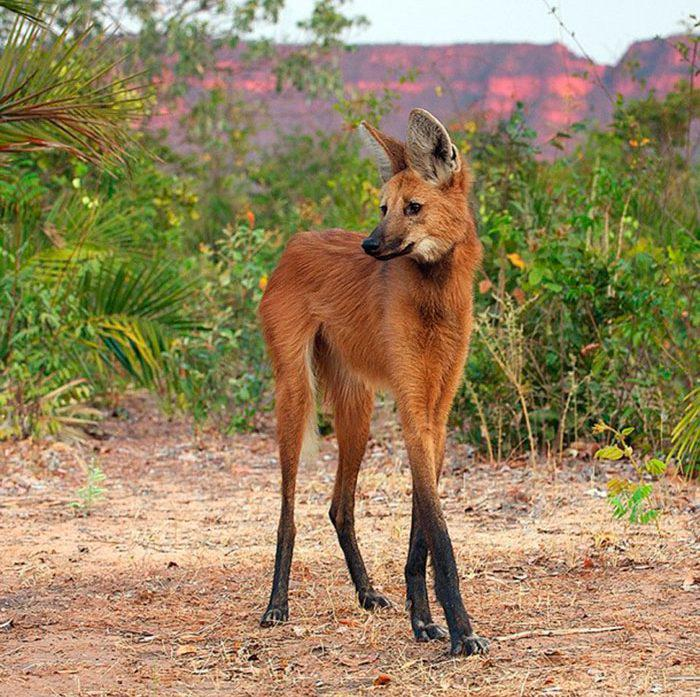LoboGuara: (251, 103, 501, 666)
